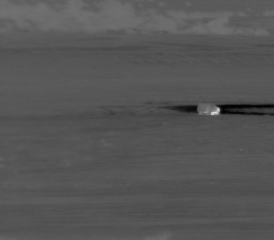Target: (197, 105, 219, 115)
